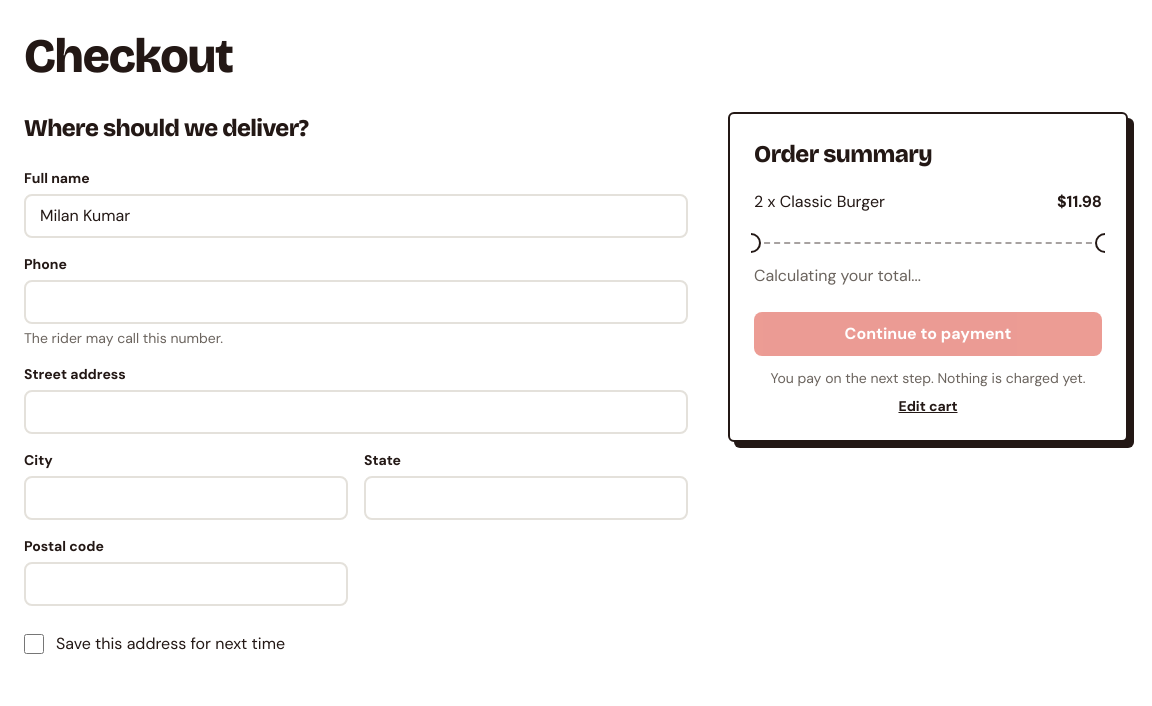
it: Checkout › shows the server message when the order is refused
Type "9876543210" into the field labelled "Phone" at (356, 302), box [24,280,688,324]
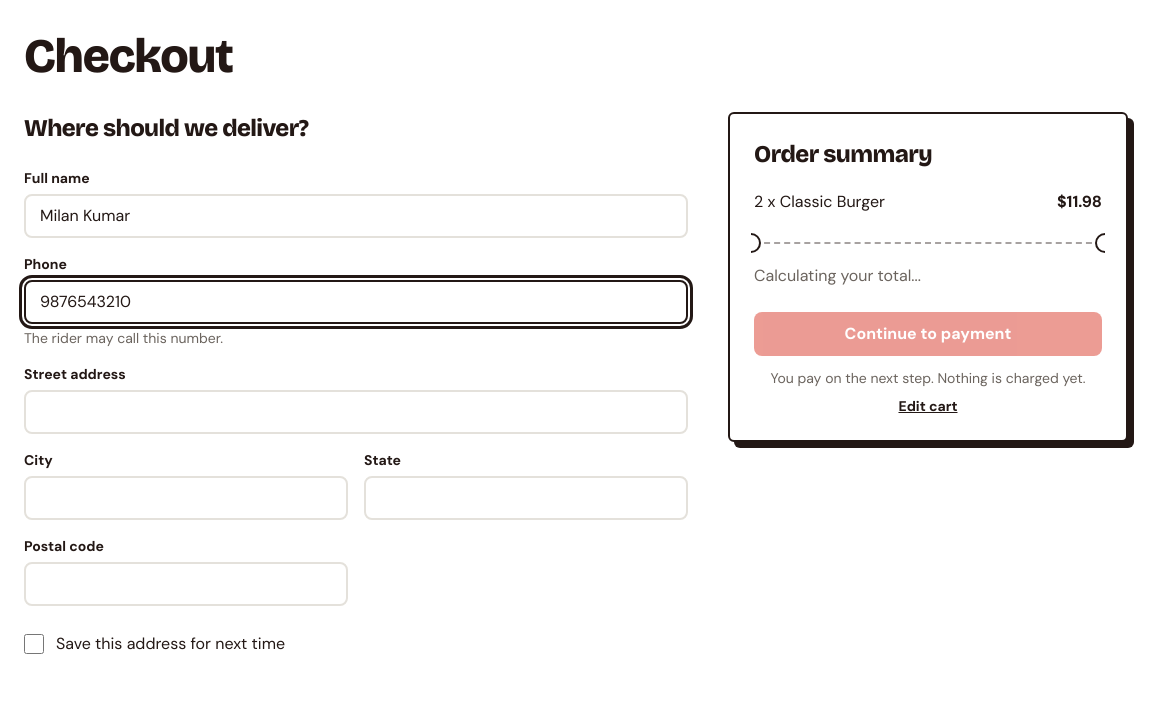
Type "12 Test Street" into the field labelled "Street address" at (356, 412), box [24,390,688,434]
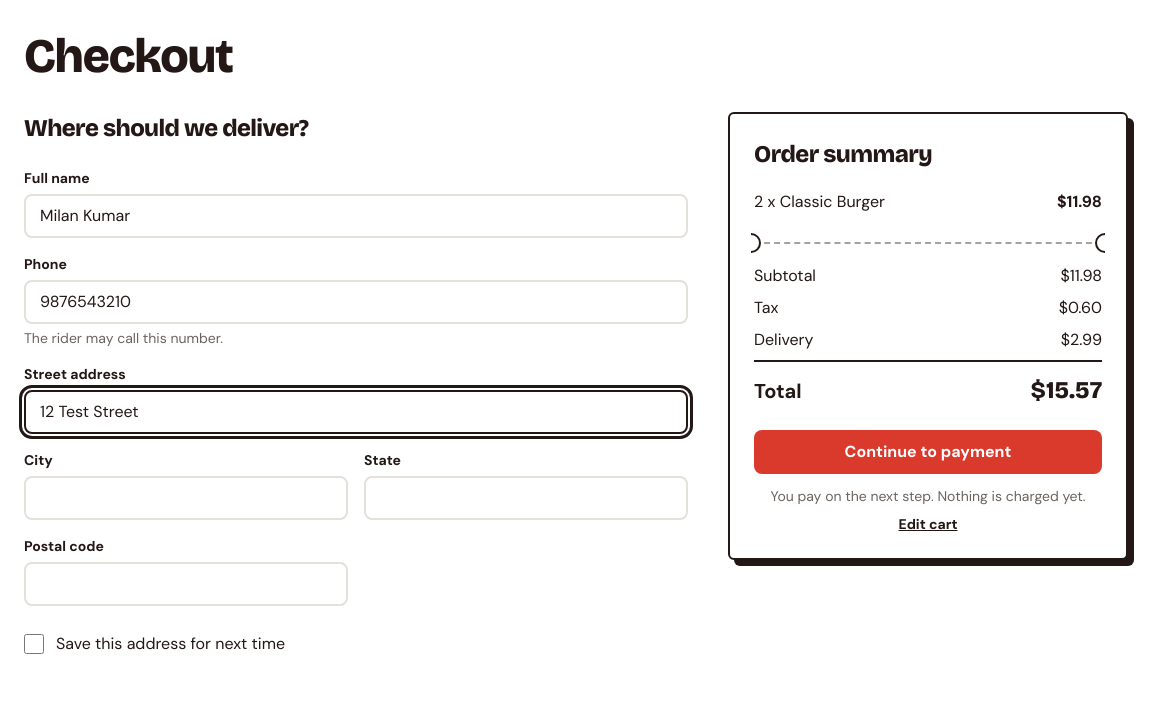
Type "Indore" into the field labelled "City" at (186, 498), box [24,476,348,520]
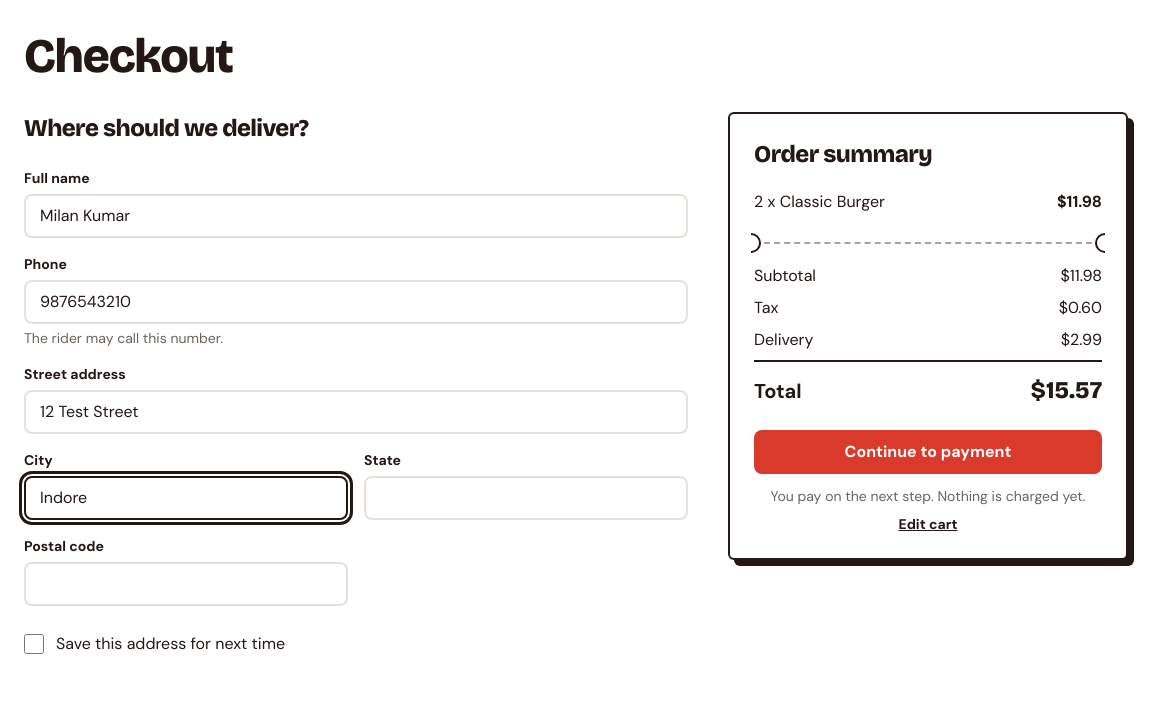
Type "MP" into the field labelled "State" at (526, 498), box [364,476,688,520]
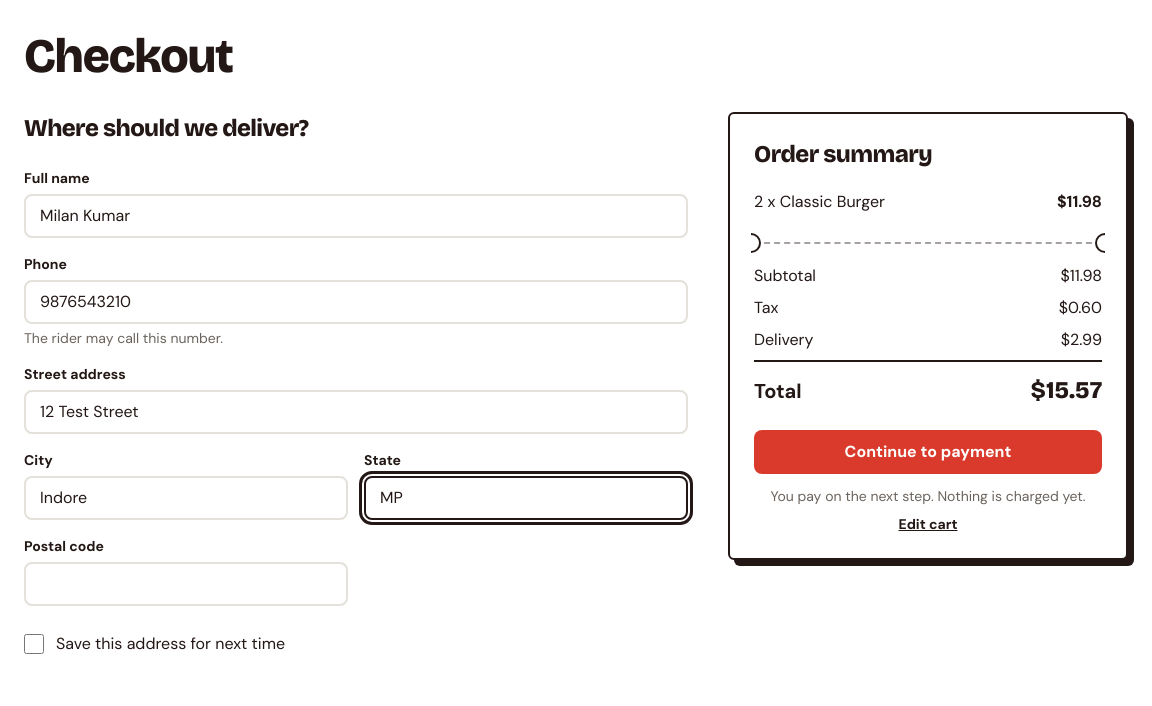
Type "452001" into the field labelled "Postal code" at (186, 584), box [24,562,348,606]
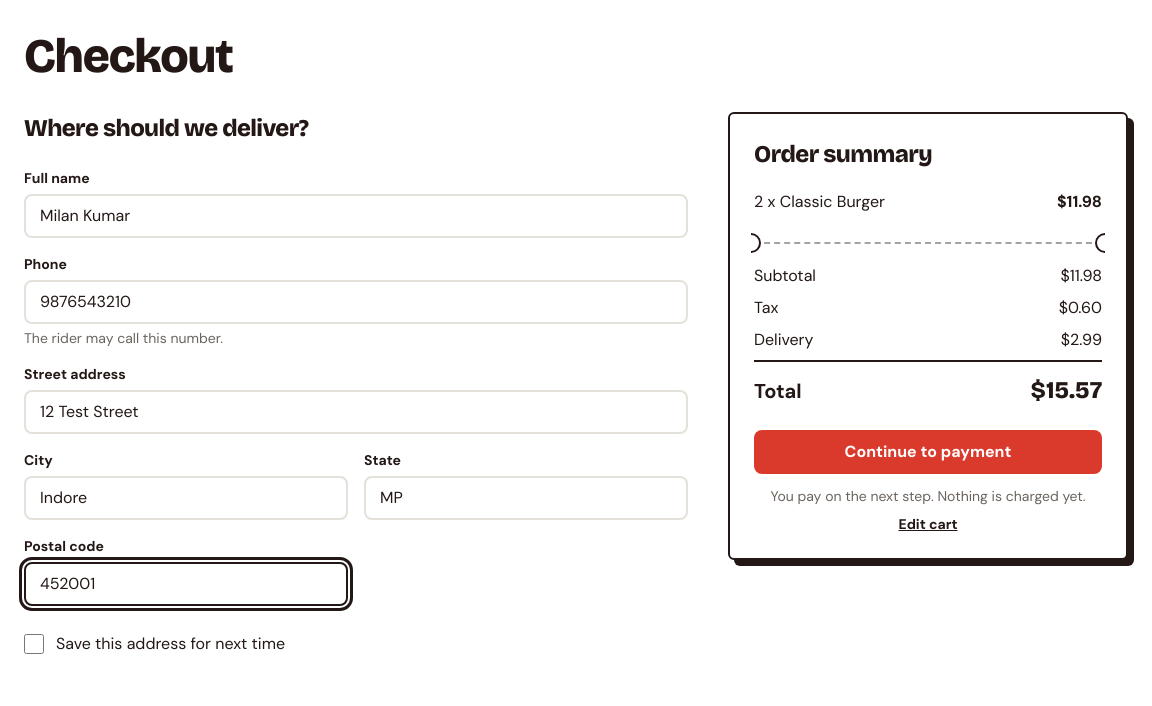
Expected: the text "$15.57" is shown, [1031,374,1102,406]
Click the button "Continue to payment" at (928, 452), box [754,430,1102,474]
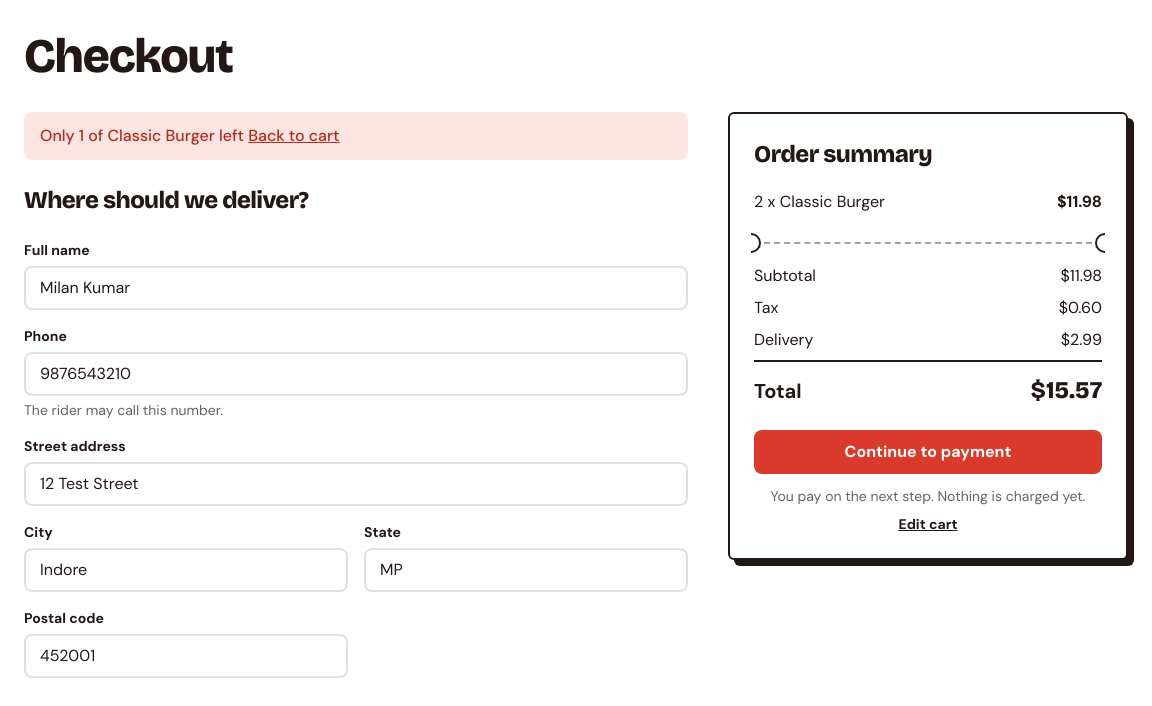
Expected: the message "Only 1 of Classic Burger left Back to cart" is shown, [24,112,688,160]
